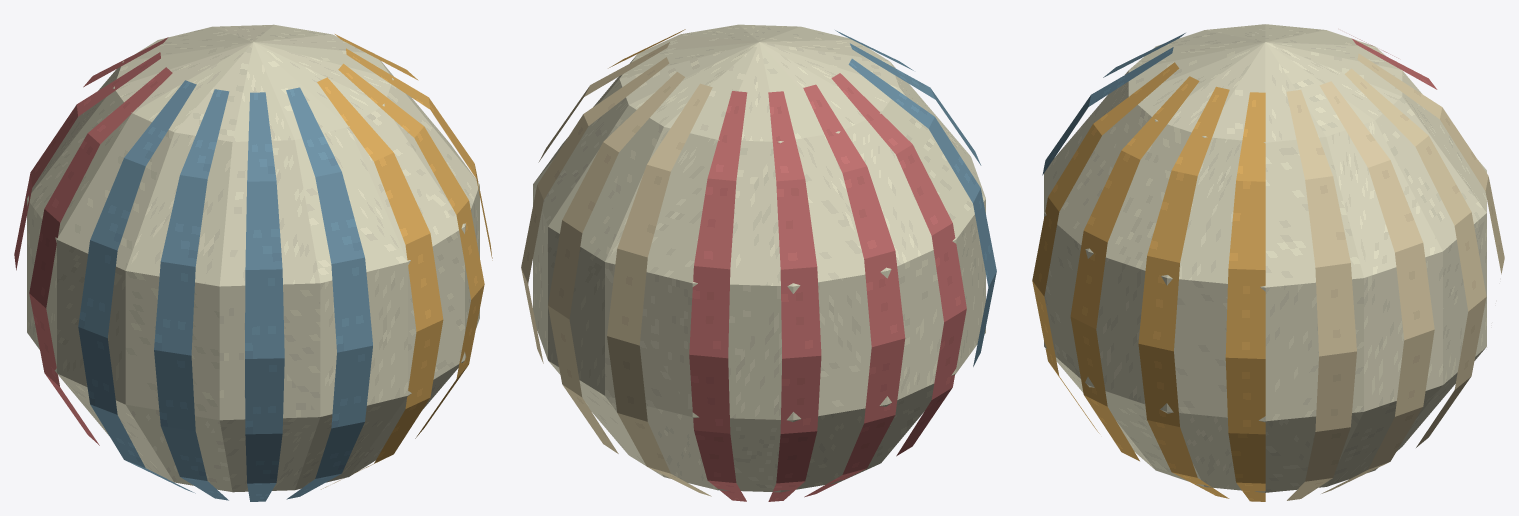
Rendered from beach_volleyball.glb.
The picture shows the model from 3 angles, left to right: view 1: azimuth 30°, elevation 25°; view 2: azimuth 150°, elevation 25°; view 3: azimuth 270°, elevation 25°; orthographic projection.
Visible parts, largest first — view 1: block_ball, block_colored volleyball panel (×37); view 2: block_ball, block_colored volleyball panel (×38); view 3: block_ball, block_colored volleyball panel (×37).
Boxes of the visible parts, x1,y1,x2,y2 form: block_ball: (27,24,479,492); block_colored volleyball panel (×37): (29,48,484,483); block_ball: (533,24,985,492); block_colored volleyball panel (×38): (521,42,996,483); block_ball: (1044,24,1486,492); block_colored volleyball panel (×37): (1032,47,1504,483).
Bounding box in the file's own units: 0.27 × 0.2694 × 0.27.
1 material, 1 textured.
